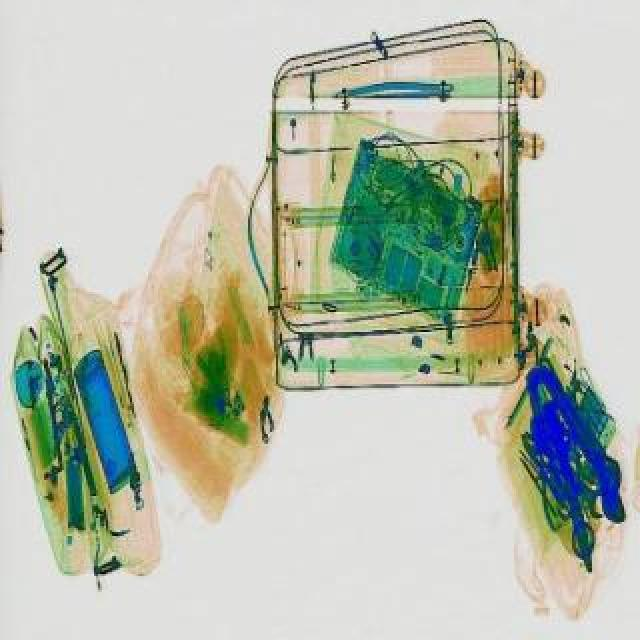scissors: (522, 350, 638, 514)
